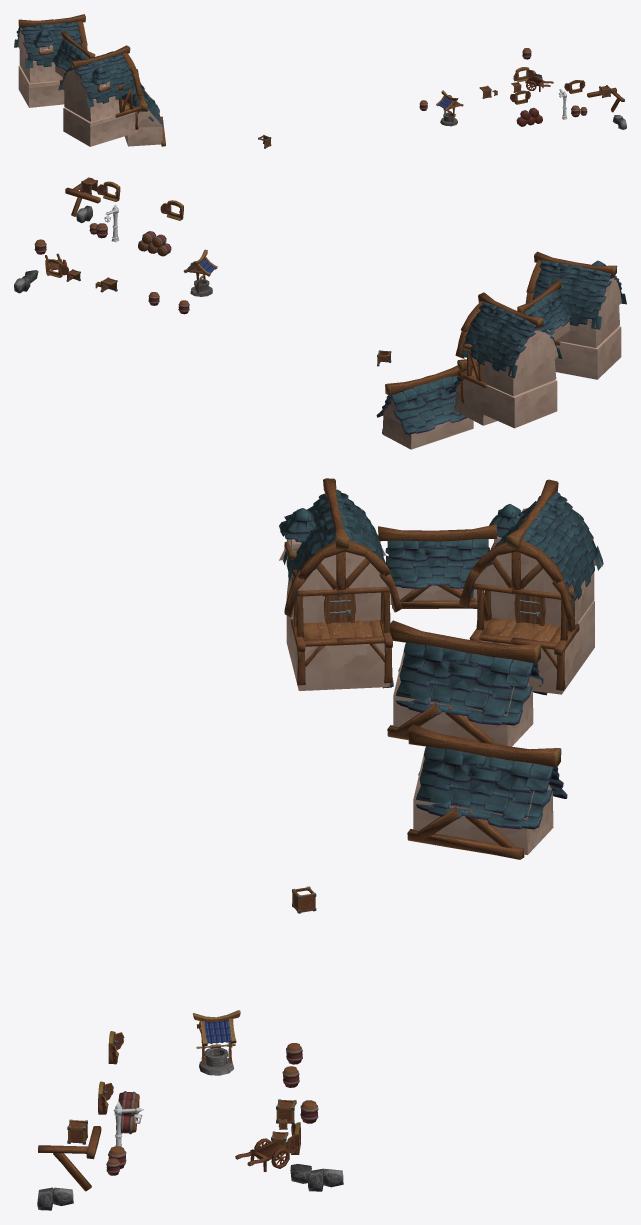
File: MainSceneNoGroups.fbx
3 renders of one model, top to bottom at view 1: azimuth 30°, elevation 25°; view 2: azimuth 150°, elevation 25°; view 3: azimuth 270°, elevation 25°, orthographic. The views are drawn at different scales.
Parts seen in each view (by area): view 1: Blue_Roof_Low_Preparation047, Box1742, Blue_Roof_Low_Preparation049, Box1746, Box1743, Box1749, Box1747, Blue_Roof_Low_Preparation033, Plane256, Blue_Roof_Low_Preparation050, Object4266, Object4217 (+4 smaller); view 2: Blue_Roof_Low_Preparation049, Blue_Roof_Low_Preparation047, Box1746, Blue_Roof_Low_Preparation050, Box1742, Box1749, Box1747, Box1743, Plane257, Blue_Roof_Low_Preparation033, Object4292, Plane256 (+3 smaller); view 3: Blue_Roof_Low_Preparation050, Blue_Roof_Low_Preparation048, Blue_Roof_Low_Preparation049, Blue_Roof_Low_Preparation033, Box1742, Blue_Roof_Low_Preparation047, Box1749, Box1745, Object4292, Object4243, Box1746, Box1747 (+9 smaller).
Boxes of the visible parts, box(x1,y1,x2,y2) form: Blue_Roof_Low_Preparation047: box(58, 51, 135, 107); Box1742: box(63, 107, 137, 146); Blue_Roof_Low_Preparation049: box(14, 18, 81, 68); Box1746: box(18, 65, 64, 107); Box1743: box(64, 90, 119, 122); Box1749: box(124, 92, 162, 146); Box1747: box(19, 49, 62, 83); Blue_Roof_Low_Preparation033: box(52, 39, 88, 72); Plane256: box(62, 69, 92, 106); Blue_Roof_Low_Preparation050: box(122, 83, 162, 127); Object4266: box(18, 14, 85, 27); Object4217: box(71, 45, 130, 68); Blue_Roof_Low_Preparation049: box(462, 302, 562, 378); Blue_Roof_Low_Preparation047: box(532, 260, 626, 329); Box1746: box(462, 379, 557, 428); Blue_Roof_Low_Preparation050: box(376, 375, 467, 434); Box1742: box(554, 326, 621, 379); Box1749: box(382, 399, 473, 449); Box1747: box(482, 359, 556, 396); Box1743: box(557, 306, 619, 347); Plane257: box(460, 330, 558, 376); Blue_Roof_Low_Preparation033: box(524, 289, 571, 335); Object4292: box(385, 365, 459, 395); Plane256: box(594, 278, 621, 327); Blue_Roof_Low_Preparation050: box(415, 746, 567, 829); Blue_Roof_Low_Preparation048: box(395, 642, 547, 725); Blue_Roof_Low_Preparation049: box(470, 492, 603, 609); Blue_Roof_Low_Preparation033: box(385, 539, 490, 588); Box1742: box(286, 595, 389, 690); Blue_Roof_Low_Preparation047: box(283, 489, 386, 602); Box1749: box(413, 748, 553, 854); Box1745: box(393, 644, 533, 746); Object4292: box(408, 724, 561, 767); Object4243: box(390, 620, 541, 663); Box1746: box(481, 600, 594, 694); Box1747: box(491, 560, 594, 626).
Bounding box in the file's own units: 811 × 211 × 409.
